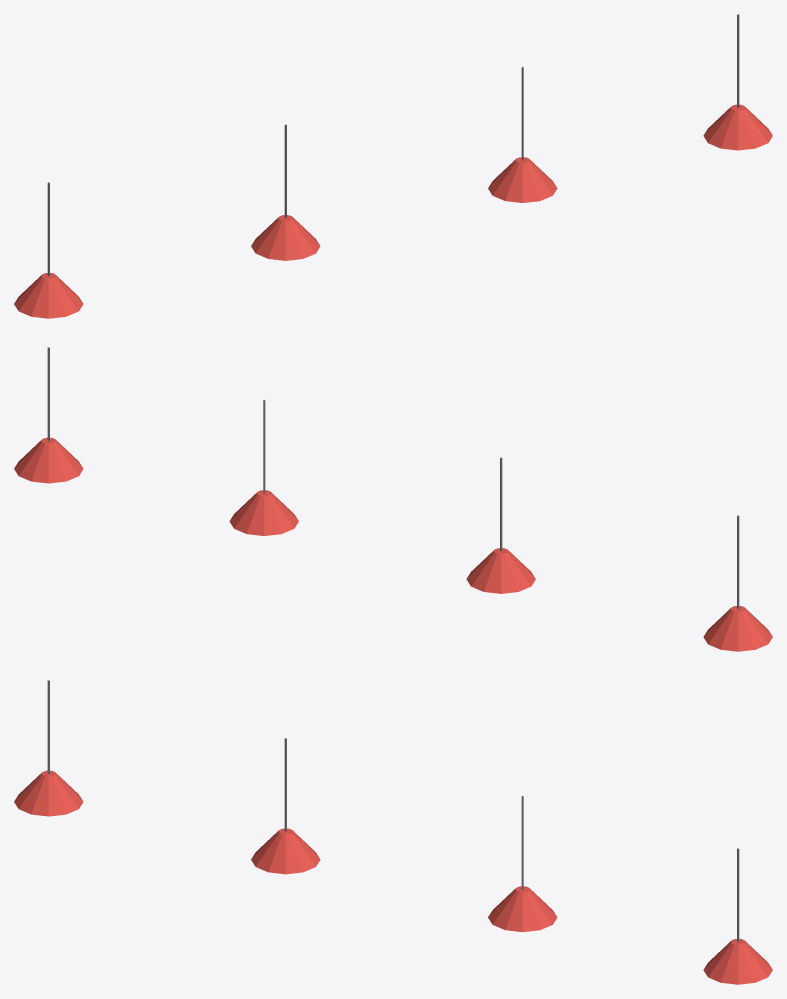
File: diner_lamps.glb
3 views of the same model, one above another, from view 1: azimuth 30°, elevation 25°; view 2: azimuth 150°, elevation 25°; view 3: azimuth 330°, elevation 25° (orthographic).
Visible parts, largest first — view 1: diner_lamps; view 2: diner_lamps; view 3: diner_lamps.
Boxes of the visible parts, left/top/right/bottom form: diner_lamps: left=14, top=14, right=772, bottom=318; diner_lamps: left=14, top=347, right=772, bottom=651; diner_lamps: left=14, top=680, right=772, bottom=984.
Bounding box in the file's own units: 6.96 × 1.15 × 0.56.
